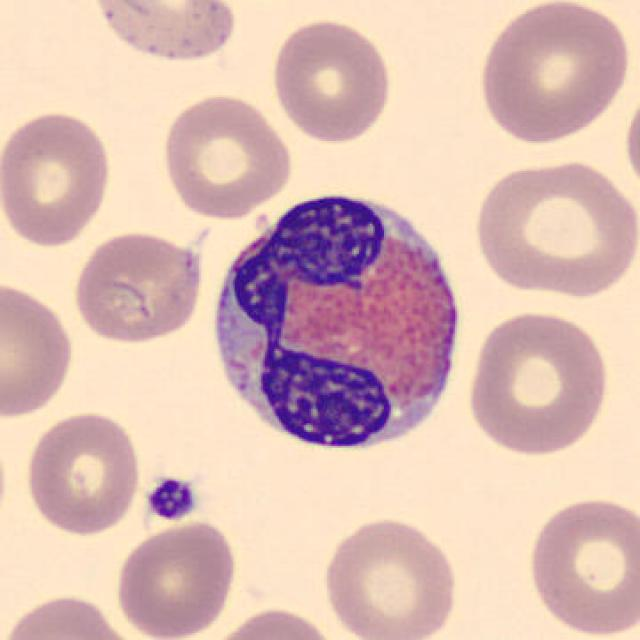Eosinophil: (197, 175, 473, 469)
Platelets: (142, 472, 201, 524)
RBC: (468, 153, 638, 300), (473, 0, 635, 146), (462, 305, 614, 458), (318, 513, 462, 640), (157, 90, 295, 220), (266, 14, 396, 145), (523, 490, 638, 638), (0, 106, 116, 250), (69, 228, 208, 348), (20, 408, 144, 540), (112, 518, 240, 640), (0, 276, 78, 419), (89, 0, 242, 67), (0, 590, 144, 640), (204, 604, 339, 640), (620, 79, 640, 201), (0, 425, 11, 545)
